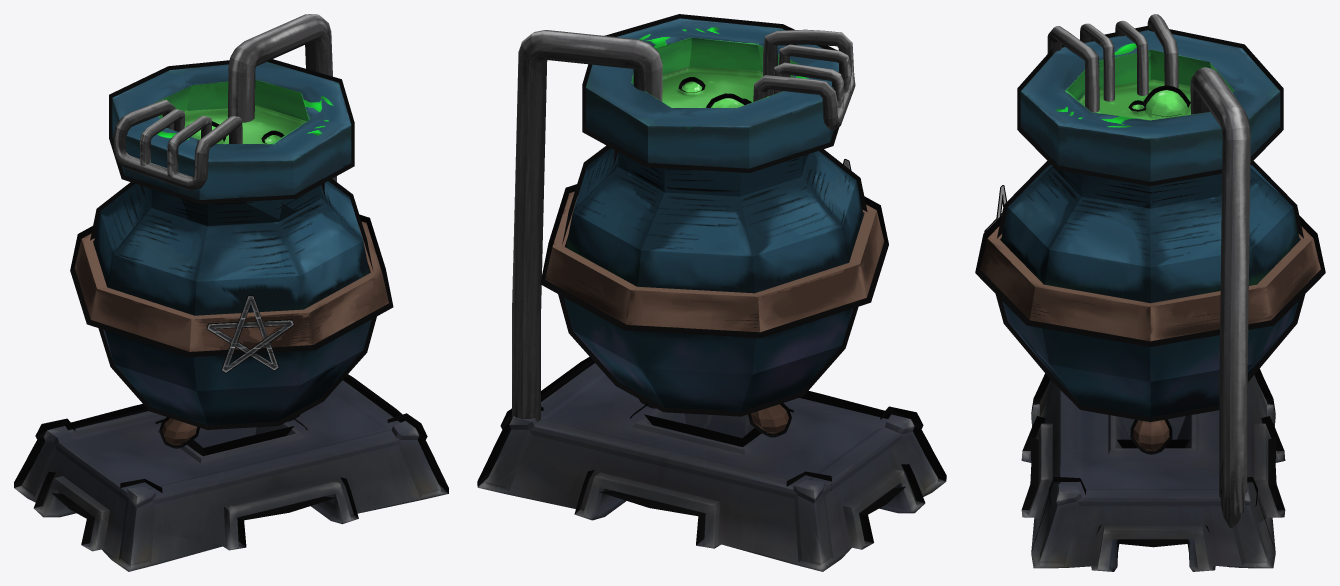
The model's file is SM_Cauldron_Merged_Lin.glb.
3 renders of one model, left to right at view 1: azimuth 30°, elevation 25°; view 2: azimuth 150°, elevation 25°; view 3: azimuth 270°, elevation 25°, orthographic. The views are drawn at different scales.
Parts seen in each view (by area): view 1: cauldron; view 2: cauldron; view 3: cauldron.
Part boxes in pixels (x1,y1,x2,y2): cauldron: (14,14,448,571); cauldron: (477,14,946,571); cauldron: (975,14,1325,571).
Bounding box in the file's own units: 0.9992 × 1.2 × 0.8563.
Materials: 13 (7 with a texture image).
